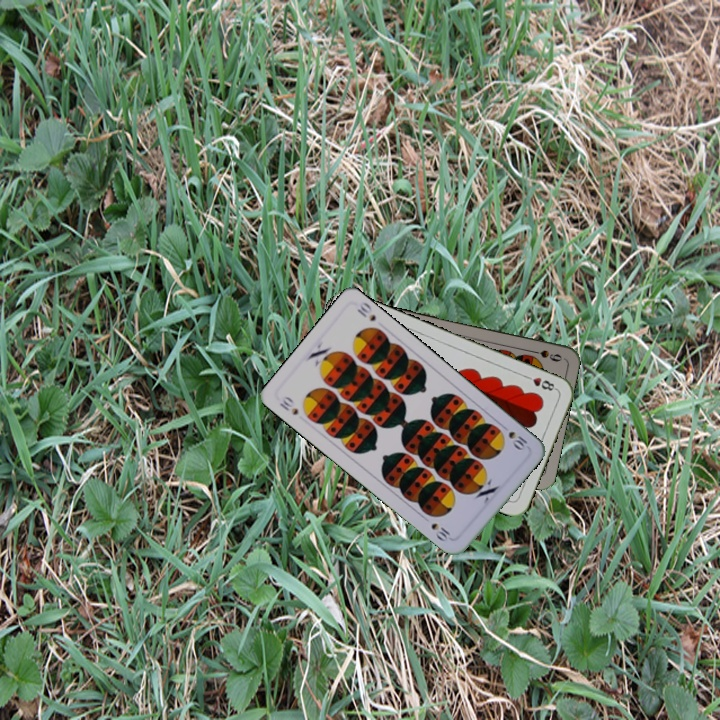H8: (520, 371, 559, 393)
S10: (494, 420, 530, 454), (275, 392, 301, 418)
S9: (524, 346, 564, 364)
